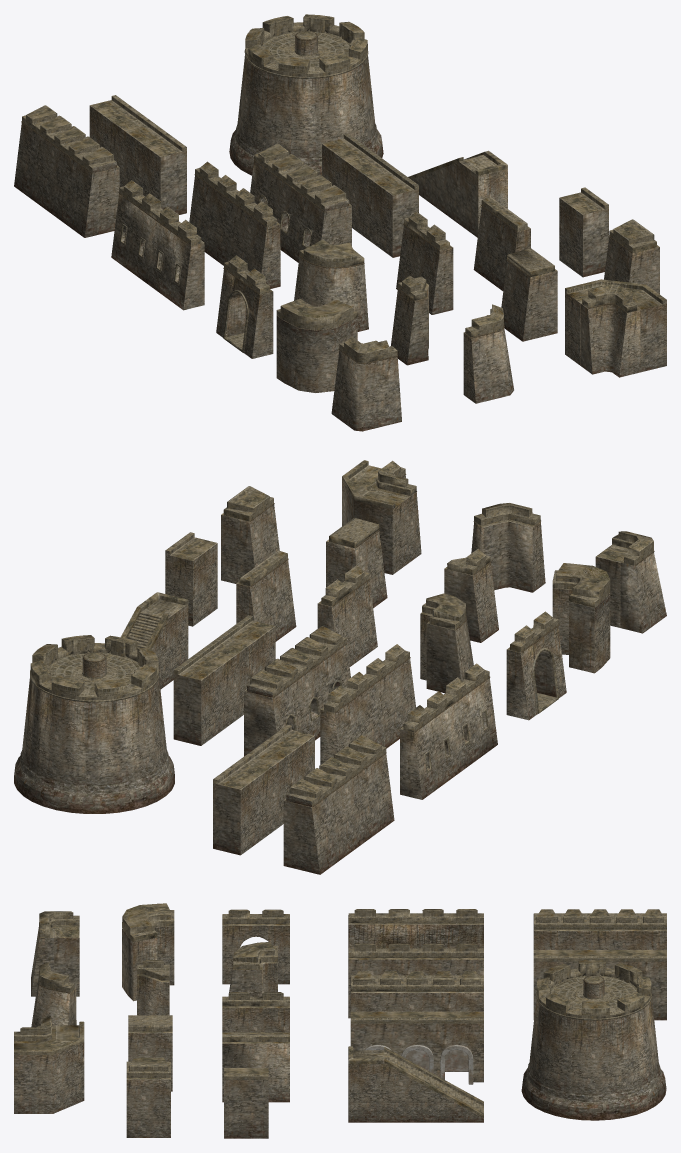
File: modular_fort_01_web.glb
3 views of the same model, one above another, from view 1: azimuth 30°, elevation 25°; view 2: azimuth 150°, elevation 25°; view 3: azimuth 270°, elevation 25° (orthographic). The views are drawn at different scales.
Visible parts, largest first — view 1: modular_fort_01_wall_thick_corner_02; view 2: modular_fort_01_wall_thick_corner_02; view 3: modular_fort_01_wall_thick_corner_02, modular_fort_01_wall_walkway_straight_01.
Part boxes in pixels (x1=…): modular_fort_01_wall_thick_corner_02: x1=14, y1=14, x2=666, y2=431; modular_fort_01_wall_thick_corner_02: x1=14, y1=460, x2=666, y2=874; modular_fort_01_wall_thick_corner_02: x1=14, y1=903, x2=666, y2=1138; modular_fort_01_wall_walkway_straight_01: x1=365, y1=1045, x2=473, y2=1084.
Bounding box in the file's own units: 42.67 × 13.67 × 71.38.
3 materials, 3 textured.
